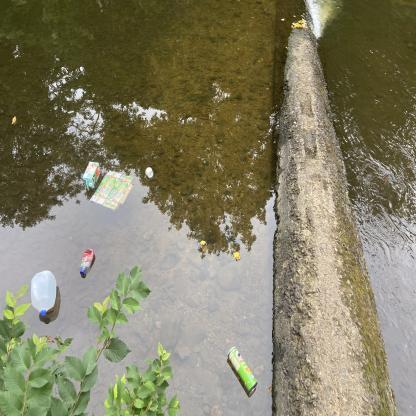trash: (88, 168, 136, 213), (224, 342, 262, 398), (28, 266, 62, 317), (80, 160, 100, 194), (78, 245, 96, 281), (144, 165, 154, 180)
